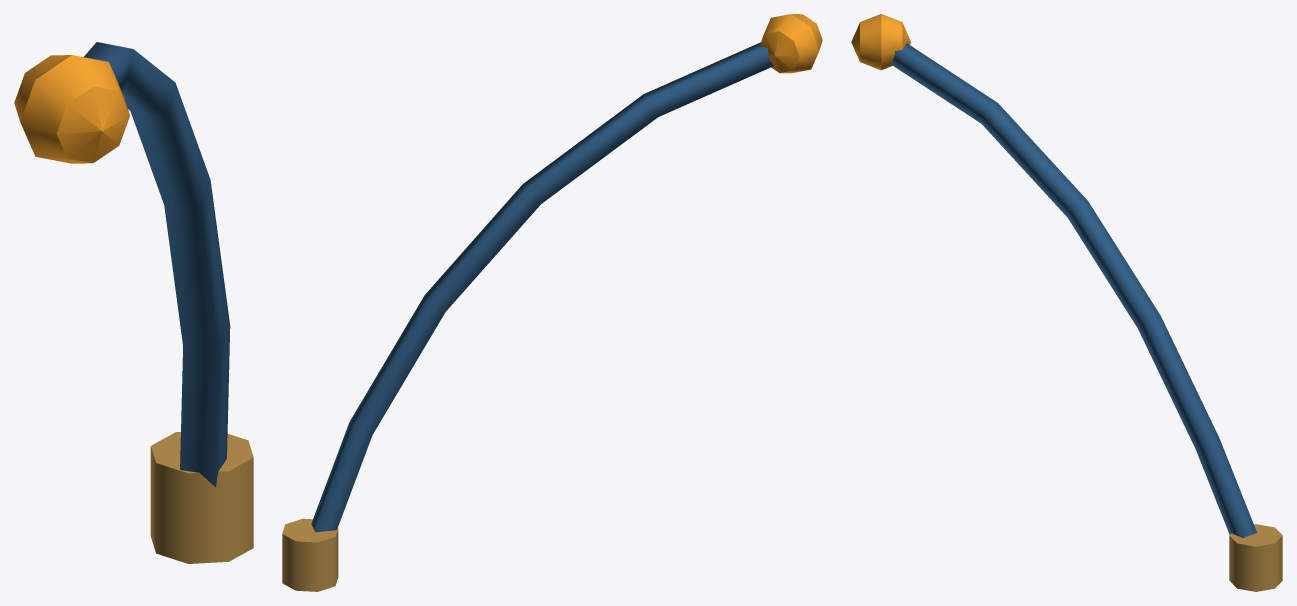
The model's file is rm2_antenna_r.obj.
3 renders of one model, left to right at view 1: azimuth 30°, elevation 25°; view 2: azimuth 150°, elevation 25°; view 3: azimuth 270°, elevation 25°, orthographic. The views are drawn at different scales.
Visible parts, largest first — view 1: rm2_antenna_r; view 2: rm2_antenna_r; view 3: rm2_antenna_r.
Part boxes in pixels (box(x1,y1,x2,y2)): rm2_antenna_r: box(14, 42, 253, 563); rm2_antenna_r: box(282, 14, 822, 591); rm2_antenna_r: box(851, 14, 1282, 591).
Bounding box in the file's own units: 0.209 × 0.293 × 0.259.
